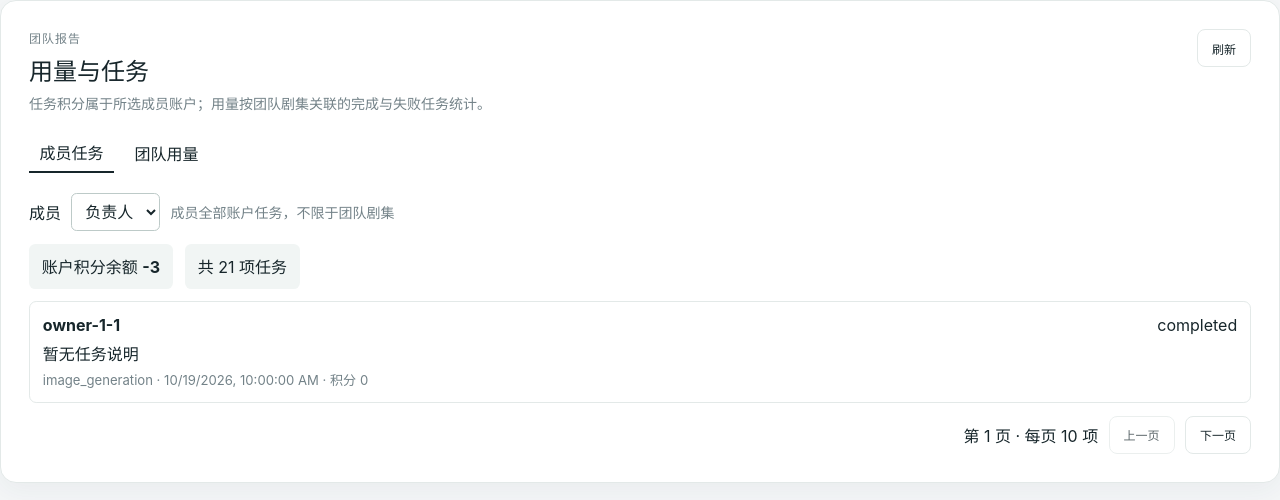
TeamReportingPanel › uses the selected member and requested page for member-task reads
The image size is (1280, 500).
Expected: the text "owner-1-1" is shown, [43,315,120,335]
Select "小林" in the dropdown labelled "成员" at (116, 212), box [71,193,160,231]
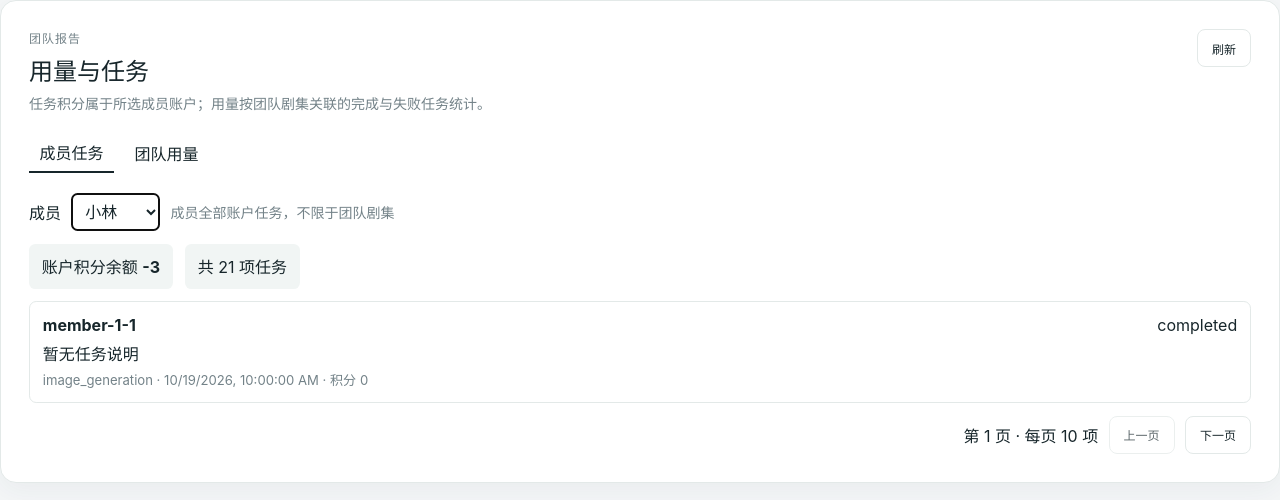
Expected: the text "member-1-1" is shown, [43,315,136,335]
Click the button "下一页".
click(1218, 435)  # box [1185,416,1251,454]
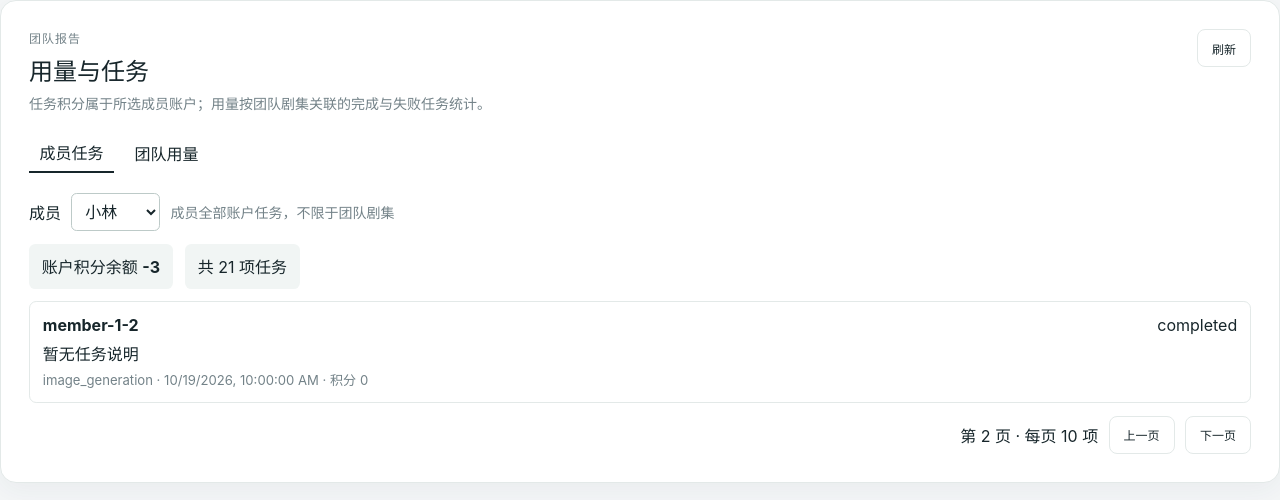
Expected: the text "member-1-2" is shown, [43,315,139,335]
